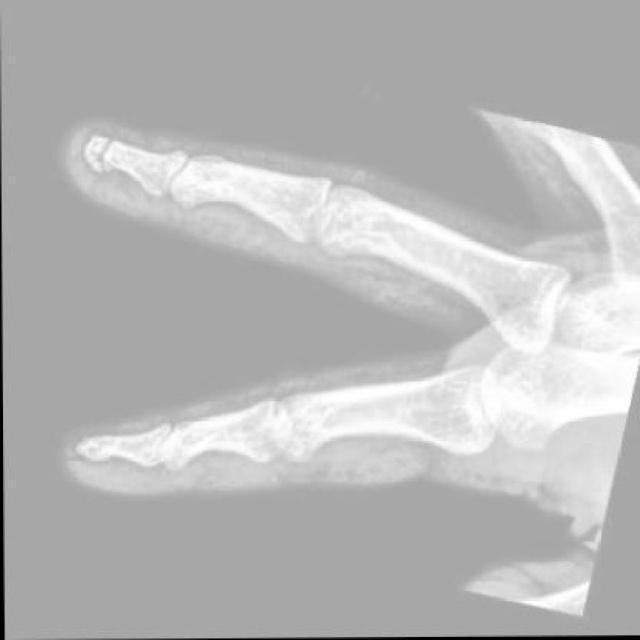Fracture: (74, 128, 121, 179)
